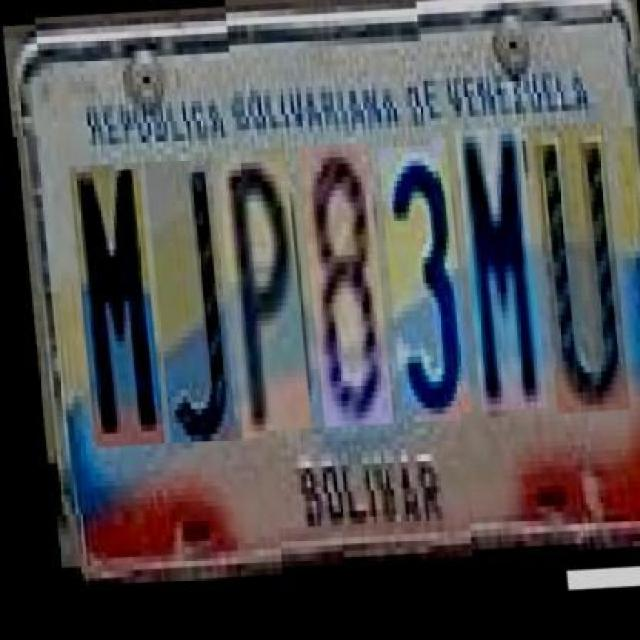3: (373, 143, 464, 422)
8: (294, 140, 384, 425)
j: (140, 147, 228, 431)
m: (64, 151, 154, 435), (452, 133, 539, 418)
p: (212, 144, 302, 428)
u: (528, 130, 622, 421)
